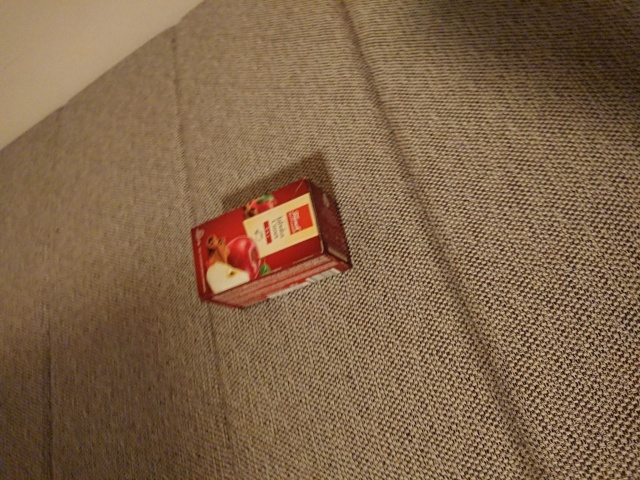Franck Apple Cinnamon Tea 60g: (186, 174, 355, 314)
